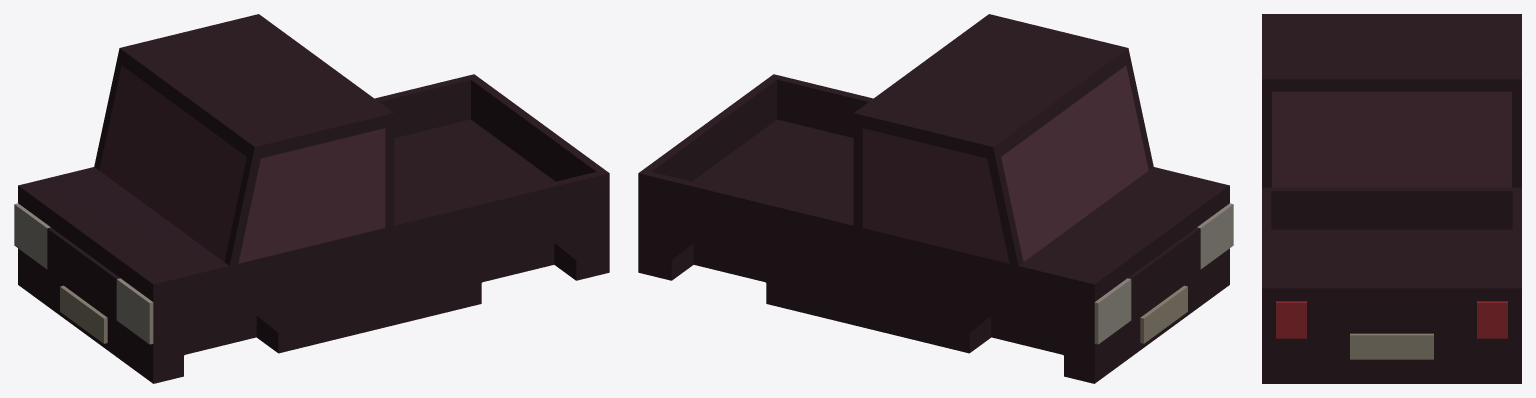
Rendered from Pickup_Black.fbx.
3 views of the same model, side by side, from view 1: azimuth 30°, elevation 25°; view 2: azimuth 150°, elevation 25°; view 3: azimuth 270°, elevation 25° (orthographic). The views are drawn at different scales.
Visible parts, largest first — view 1: Pickup_Black, Pickup_Lights; view 2: Pickup_Black, Pickup_Lights; view 3: Pickup_Black, Pickup_Lights.
Part boxes in pixels (x1,y1,x2,y2): Pickup_Black: (18,14,609,383); Pickup_Lights: (14,203,153,344); Pickup_Black: (638,14,1229,383); Pickup_Lights: (1094,203,1233,344); Pickup_Black: (1262,14,1521,383); Pickup_Lights: (1276,301,1507,338).
Size of the model in its own units: 3.66 by 1.6 by 1.85.
